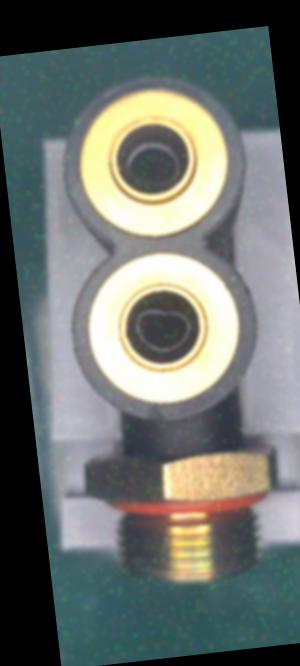bump: (135, 402, 172, 429)
off-centered: (110, 131, 187, 198), (122, 295, 199, 359)
